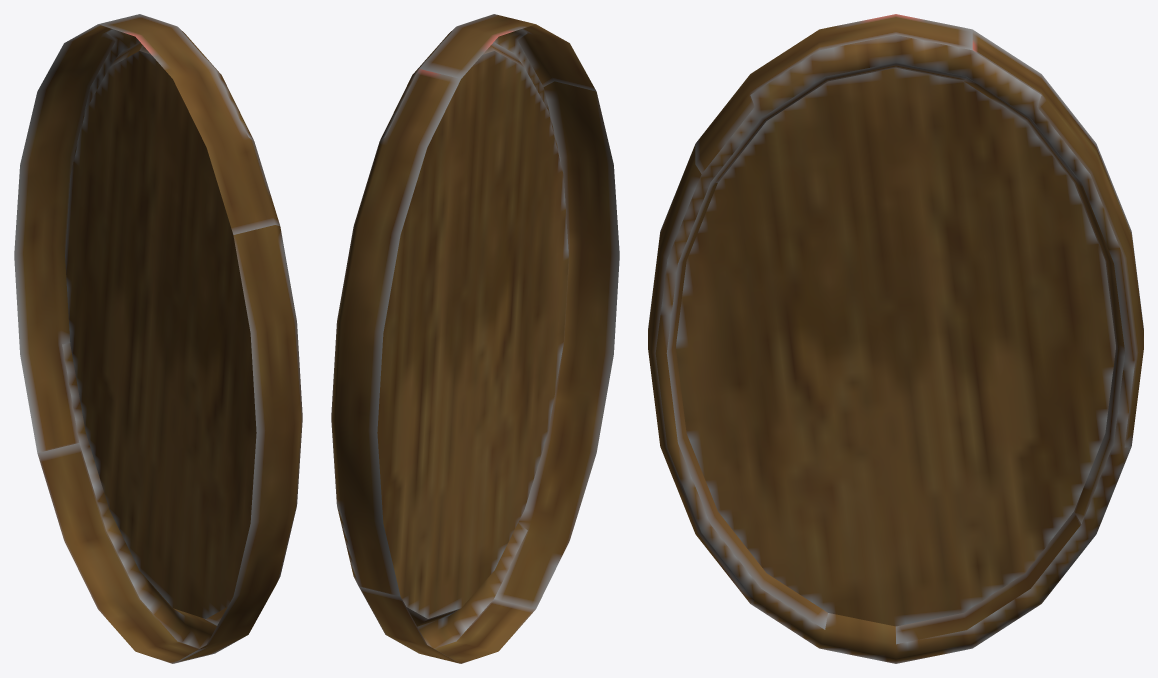
The model's file is painting.glb.
3 views of the same model, side by side, from view 1: azimuth 30°, elevation 25°; view 2: azimuth 150°, elevation 25°; view 3: azimuth 270°, elevation 25° (orthographic). The views are drawn at different scales.
Visible parts, largest first — view 1: painting; view 2: painting; view 3: painting.
Boxes of the visible parts, x1,y1,x2,y2 form: painting: [14, 14, 302, 663]; painting: [331, 14, 619, 663]; painting: [648, 14, 1143, 663].
Bounding box in the file's own units: 0.0925 × 1.09 × 0.7775.
Materials: 1 (1 with a texture image).
